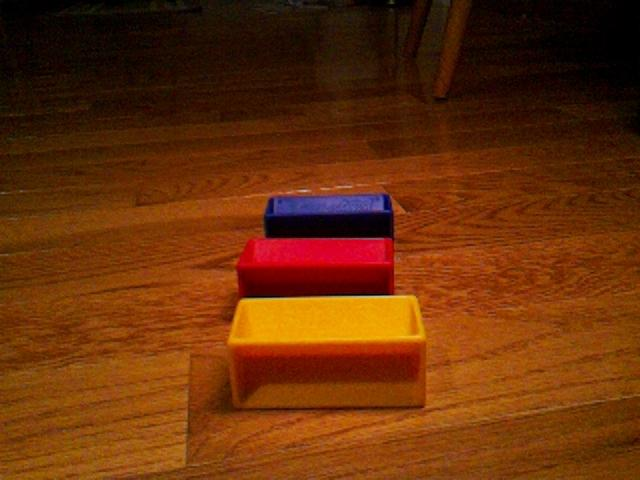blue: (263, 192, 395, 239)
red: (235, 236, 396, 297)
yellow: (226, 294, 428, 411)
